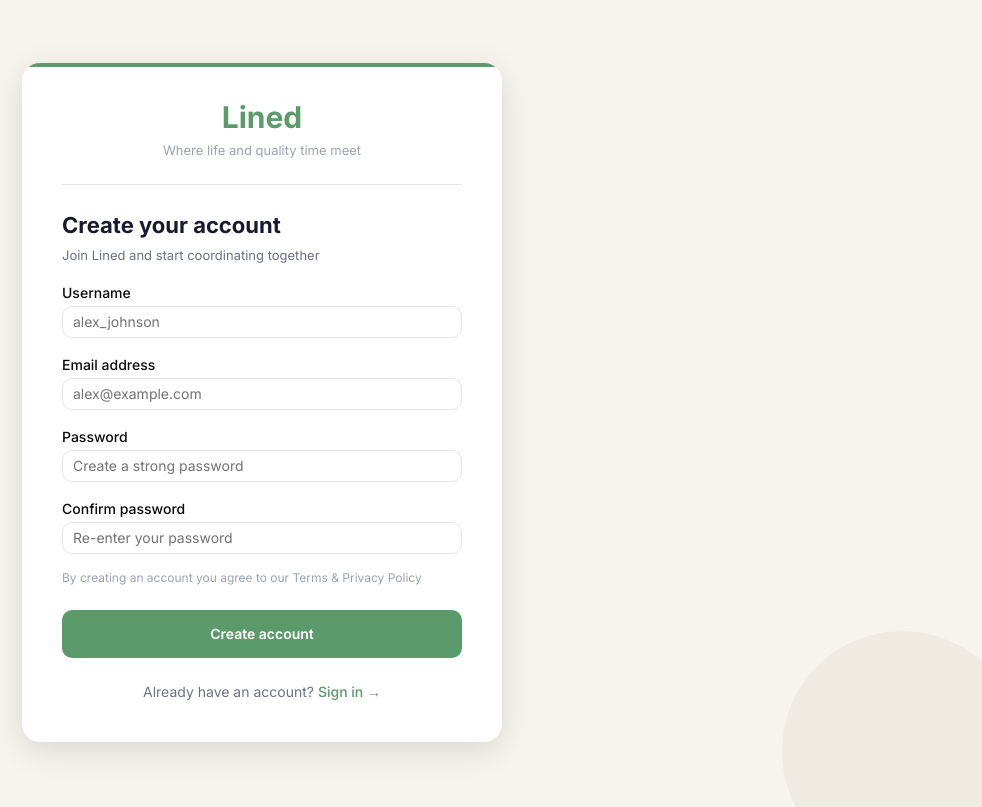
Test: SignUpPage › shows a cooldown and disables submission after a rate-limit response
Type "new-user" into the field labelled "Username" at [262, 322], box [62,306,462,338]
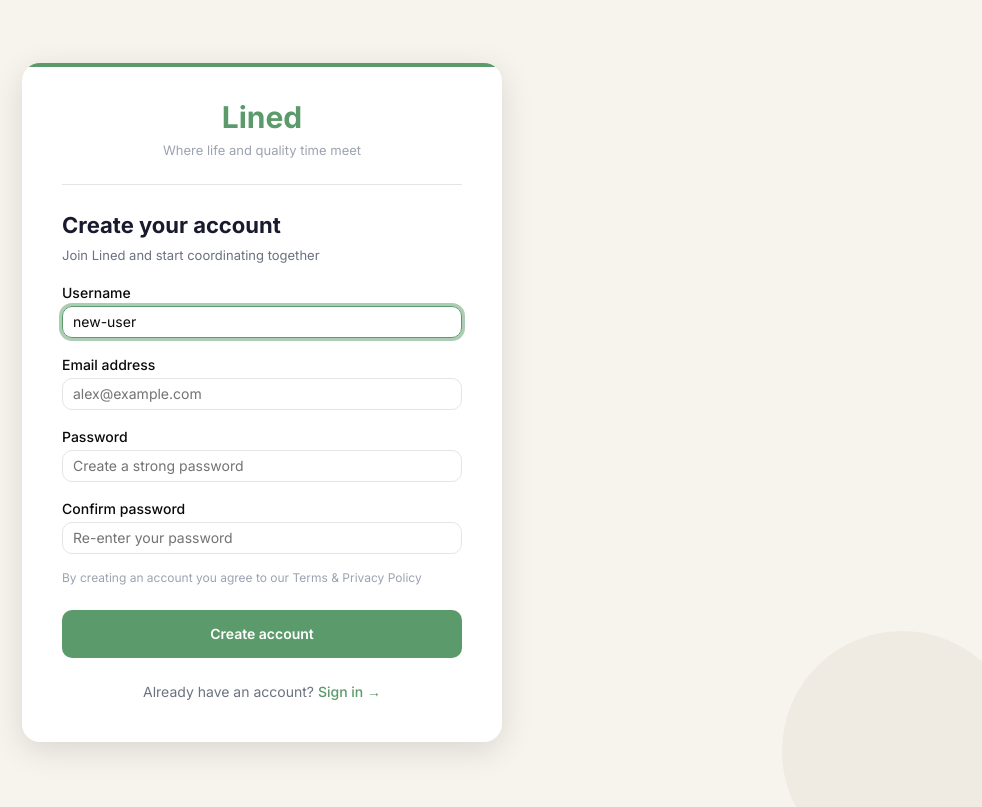
Type "new@lined.app" into the field labelled "Email address" at [262, 394], box [62,378,462,410]
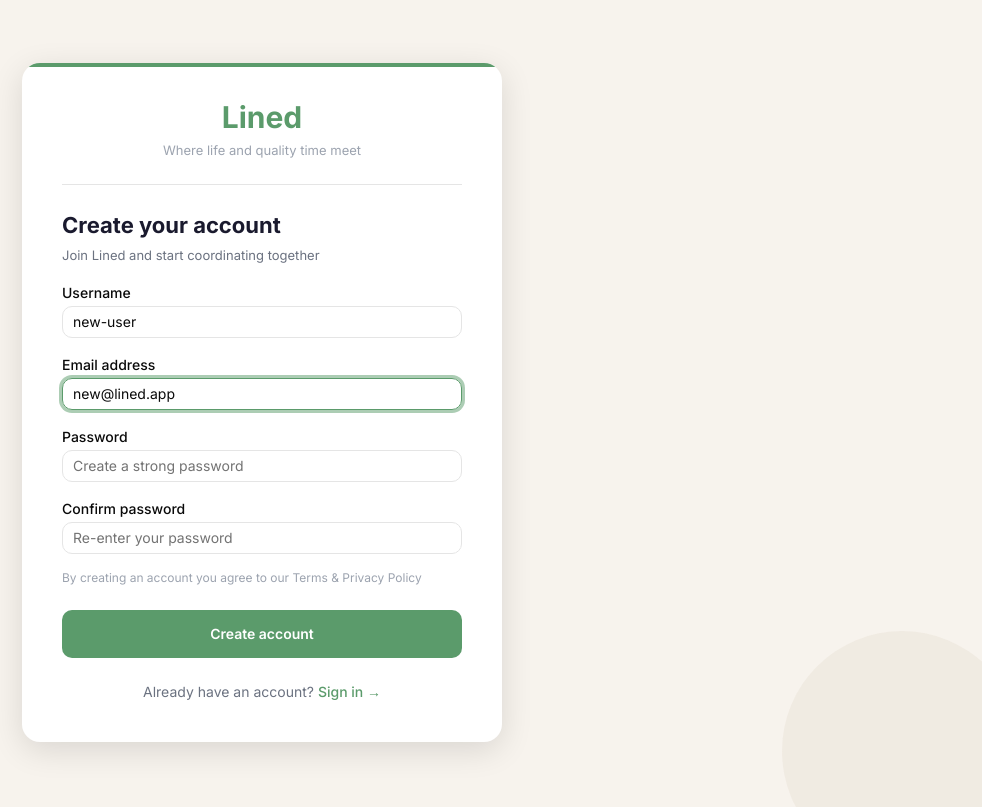
Type "strongpass1" into the password field labelled "Password" at [262, 466], box [62,450,462,482]
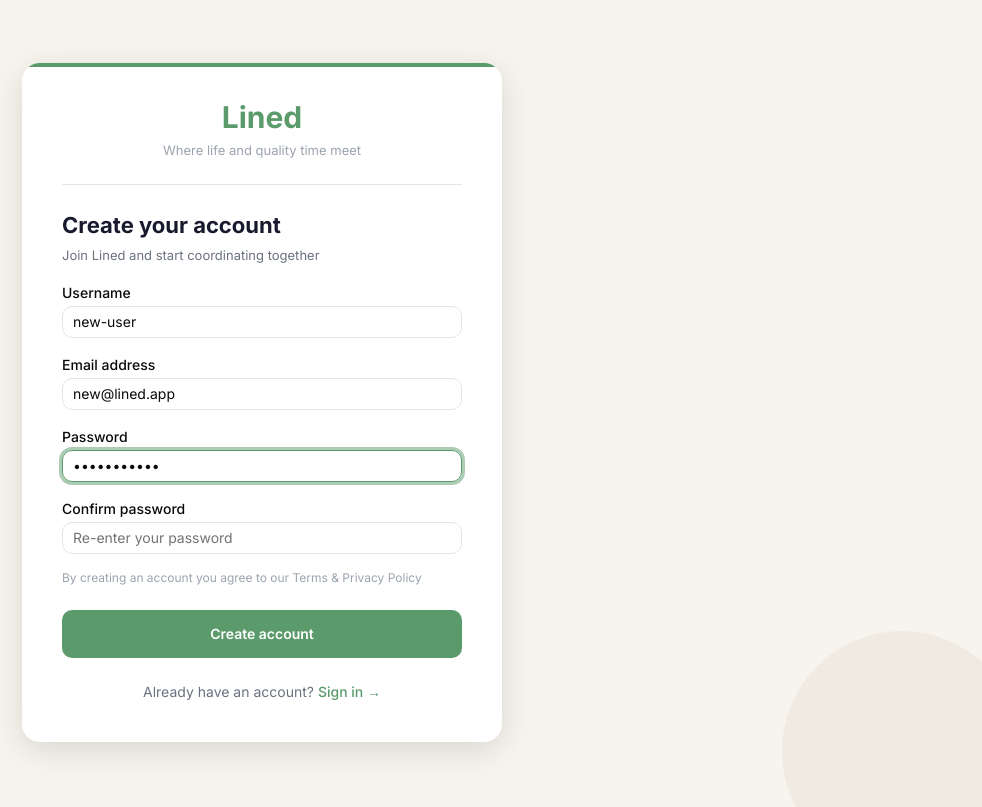
Type "strongpass1" into the password field labelled "Confirm password" at [262, 538], box [62,522,462,554]
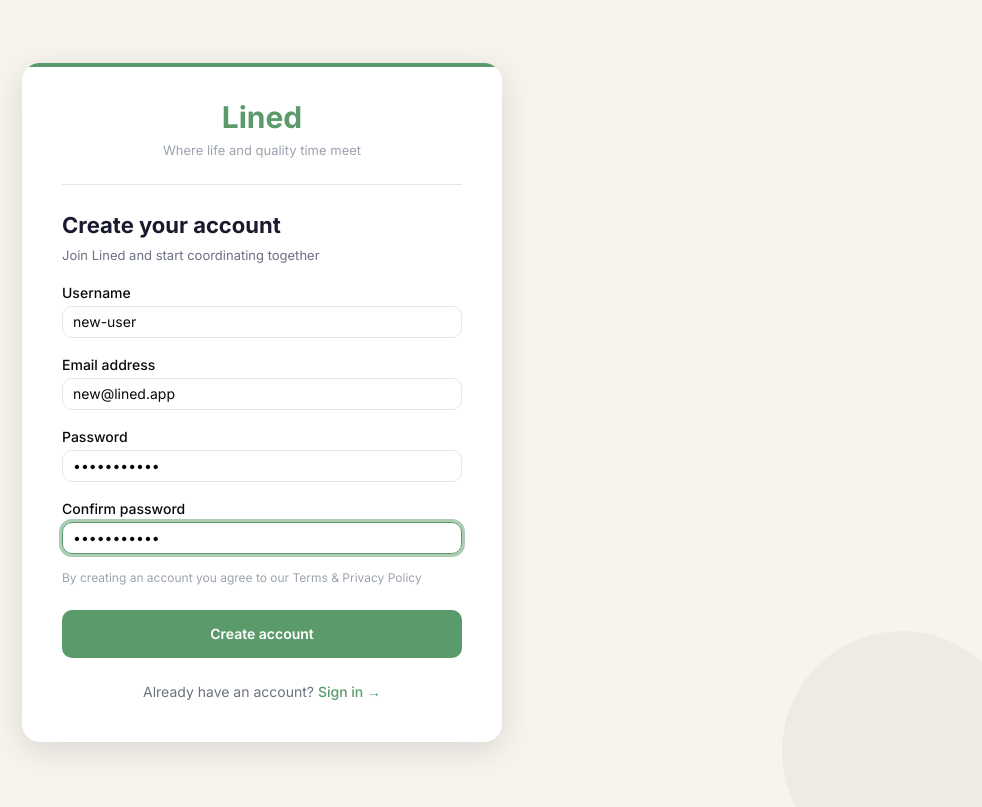
Click the button "Create account" at [262, 634], box [62,610,462,658]
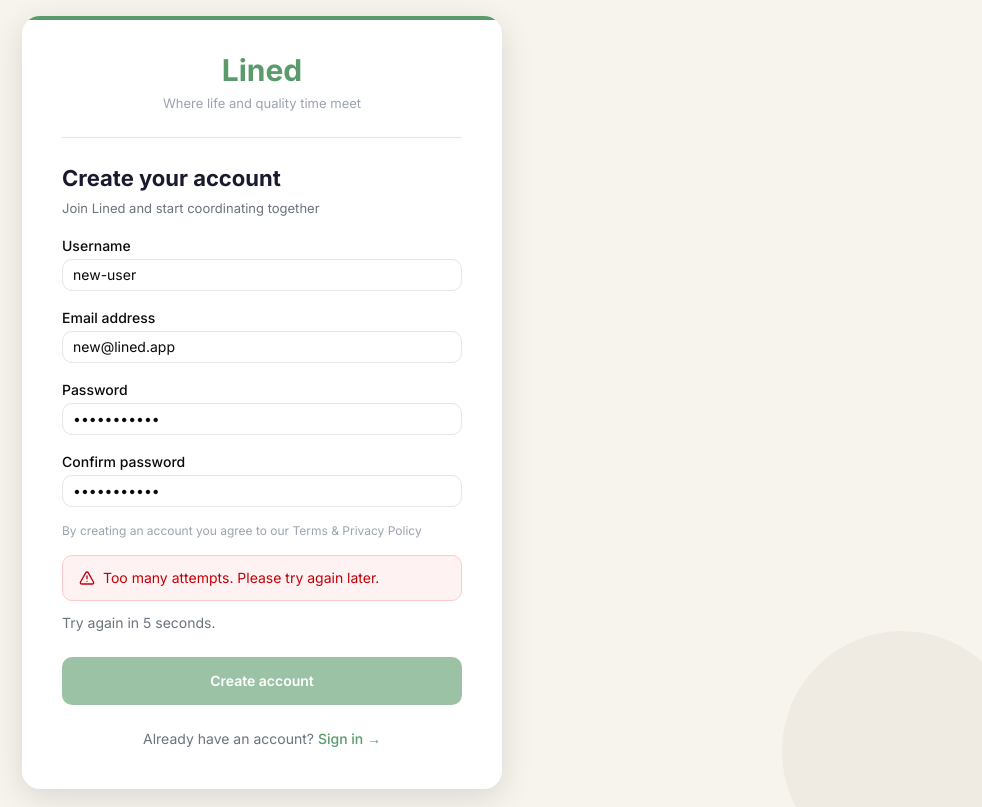
Expected: the message "Too many attempts. Please try again later." is shown, [62,554,462,600]
Expected: the message "Try again in 5 seconds." is shown, [62,614,216,630]
Expected: the button "Create account" is disabled, [62,656,462,704]
